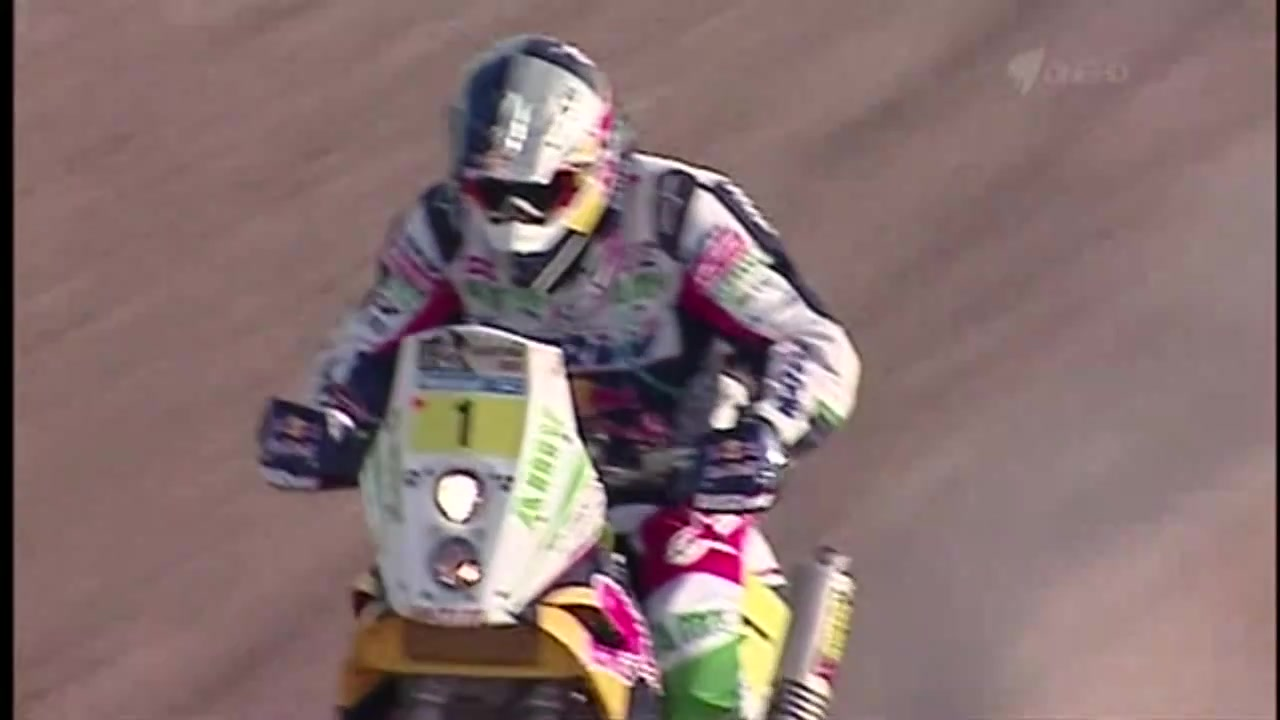motorbike: (252, 309, 865, 720)
